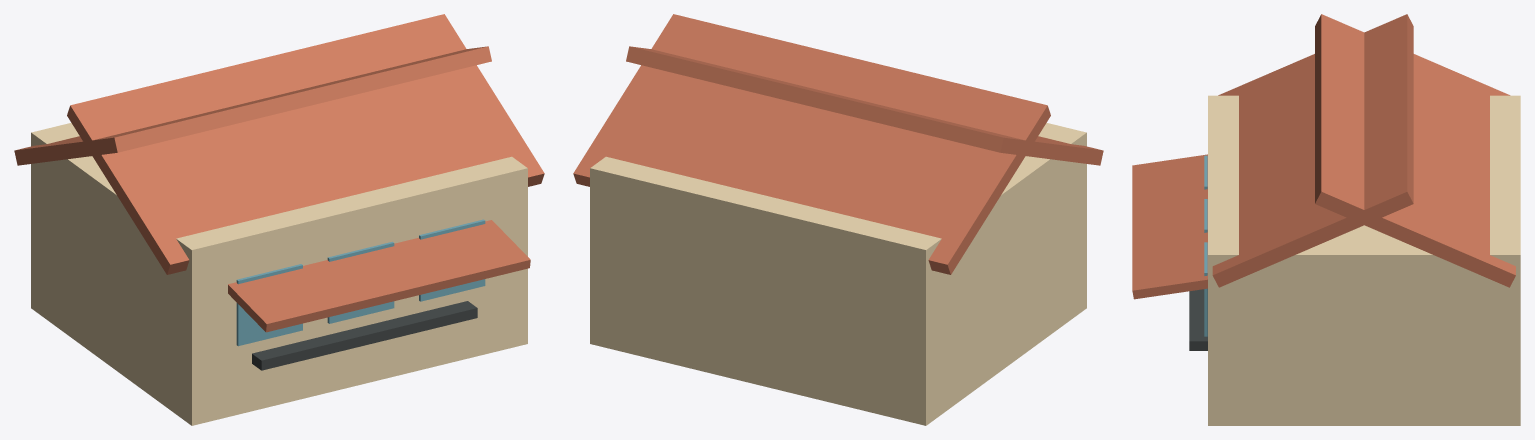
The model's file is kerala-shop.glb.
3 views of the same model, side by side, from view 1: azimuth 30°, elevation 25°; view 2: azimuth 150°, elevation 25°; view 3: azimuth 270°, elevation 25° (orthographic). The views are drawn at different scales.
Parts seen in each view (by area): view 1: walls, roofA, awning, roofB, counter, shopWindow-1.9, shopWindow0, shopWindow1.9; view 2: walls, roofB, roofA; view 3: walls, roofA, roofB, awning, counter.
Part boxes in pixels (<box>): walls: <box>31,123,527,425</box>; roofA: <box>67,14,544,274</box>; awning: <box>228,220,530,332</box>; roofB: <box>14,46,491,165</box>; counter: <box>252,301,477,370</box>; shopWindow-1.9: <box>236,264,302,346</box>; shopWindow0: <box>327,241,394,323</box>; shopWindow1.9: <box>419,219,485,301</box>; walls: <box>590,123,1086,425</box>; roofB: <box>573,14,1050,274</box>; roofA: <box>626,46,1103,165</box>; walls: <box>1208,95,1520,425</box>; roofA: <box>1212,14,1413,287</box>; roofB: <box>1315,14,1515,287</box>; awning: <box>1132,154,1207,299</box>; counter: <box>1189,289,1207,350</box>.
Size of the model in its own units: 7.8 by 4.98 by 7.2.
